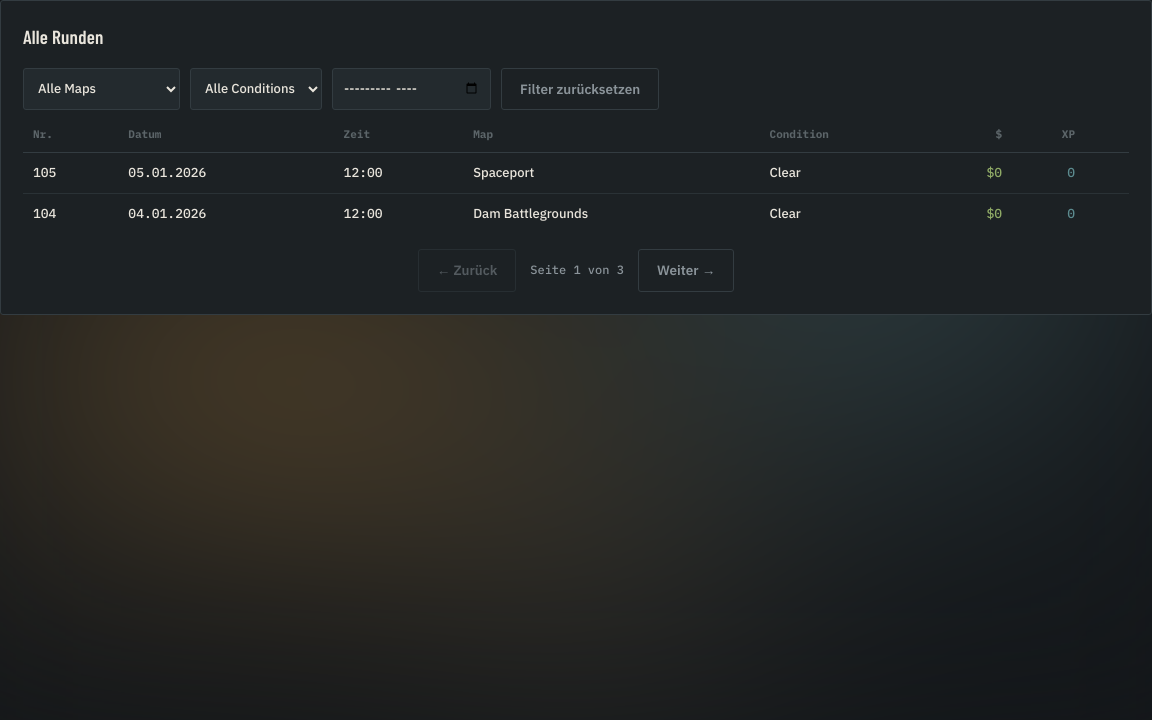
Test: ListView pagination › jumps back to page 1 when filters are reset
This screenshot has width=1152, height=720.
Click the button "Weiter →" at (686, 270), box [638,249,734,292]
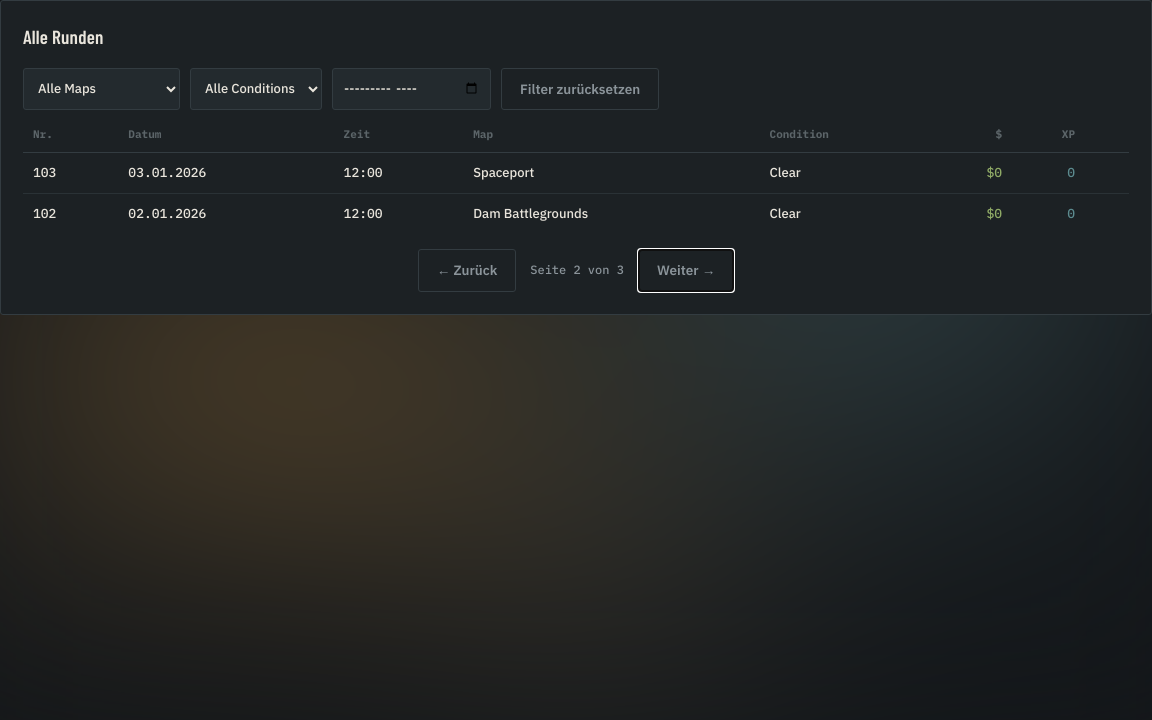
Click the button "Filter zurücksetzen" at (580, 89), box [501,68,659,110]
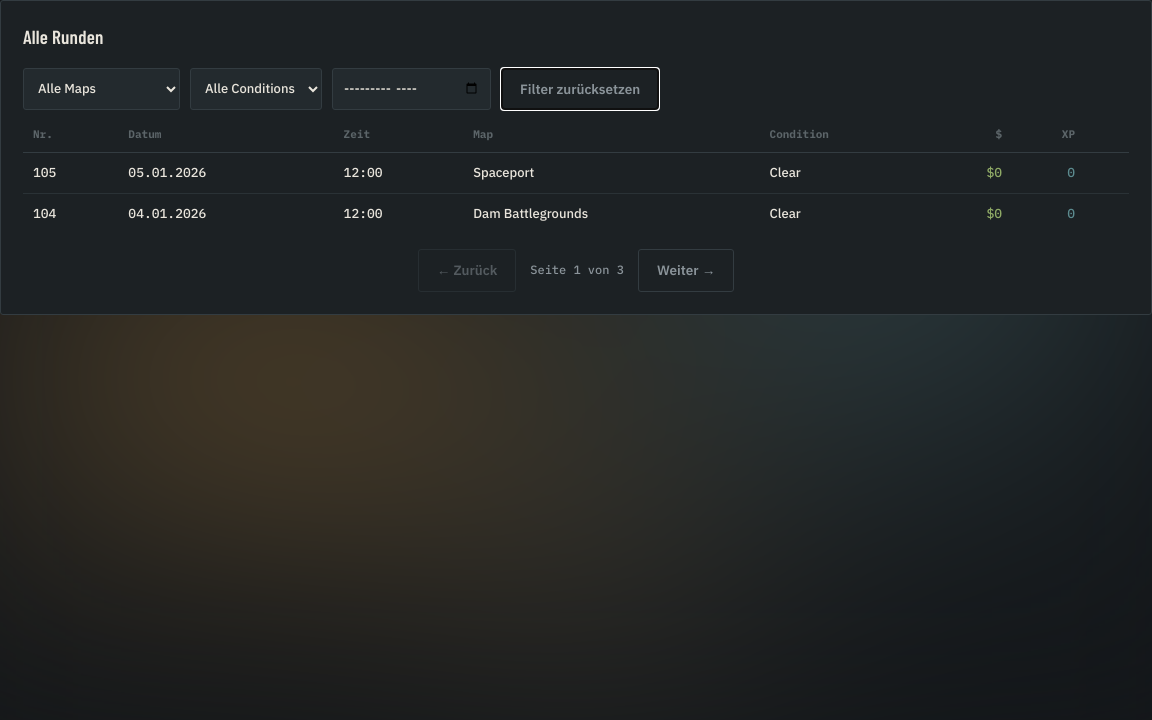
Check: the text "Seite 1 von 3" is shown, box [530,262,624,278]
